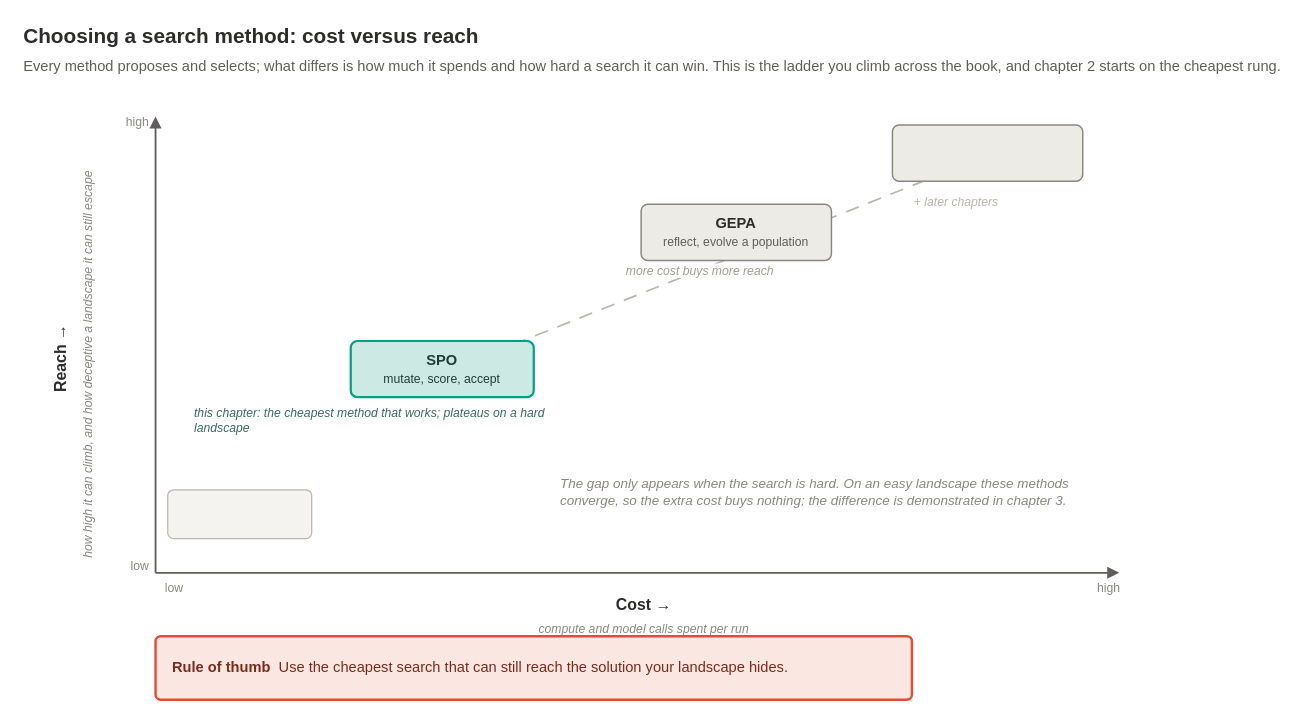
The diagram is 1302 pixels wide and 721 high, and some of its shapes have lost their labels. Each missing label, with the box of its shape:
DGM archive of diverse variants: (891, 124, 1083, 181)
Random / blind unguided: (167, 489, 312, 539)
